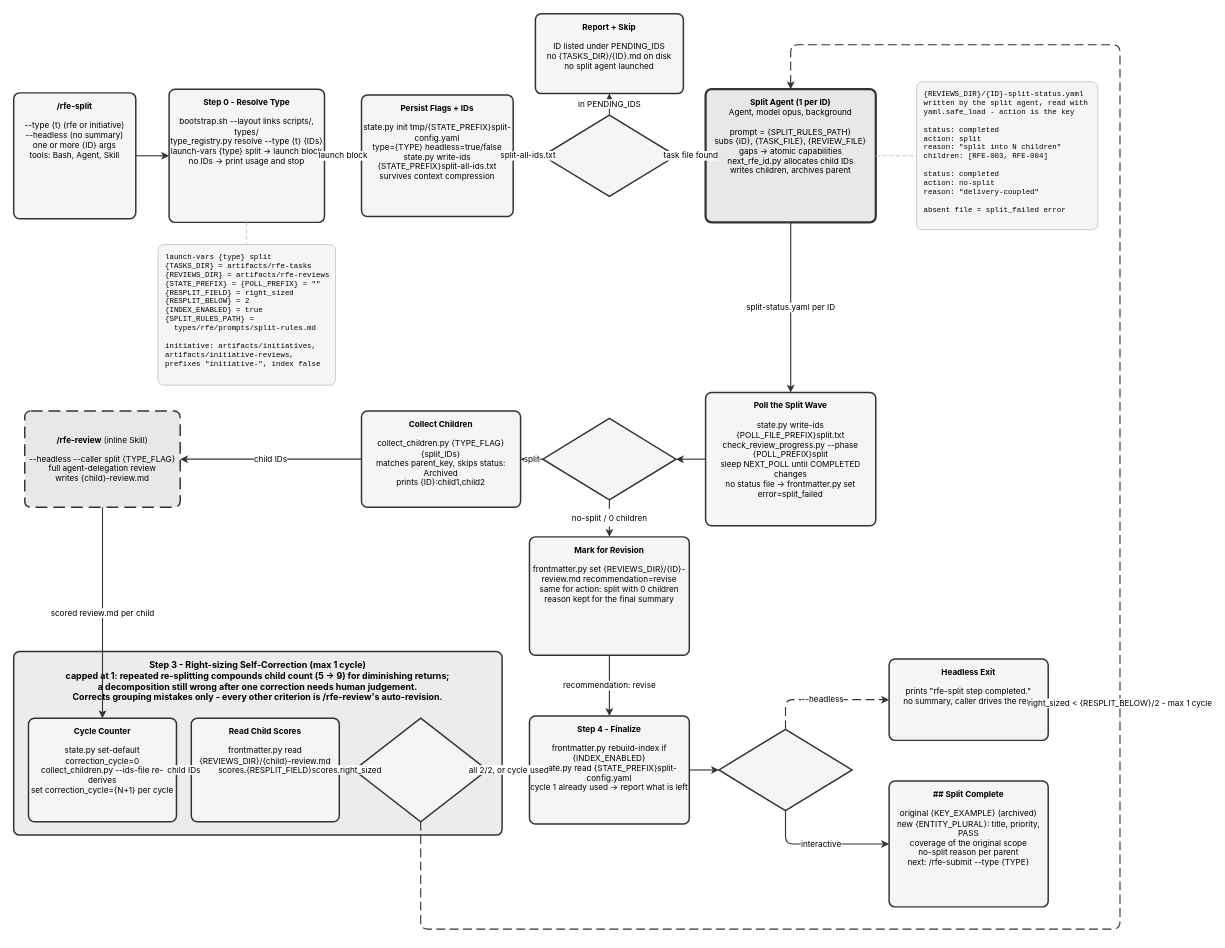
Image size: 1225x948. Some labels were removed from this diagram. The shapes that lost their labels are listed below. From the top down, each one's centre as x and y in pixels, then its label:
At pixel 609 155: "task file exists? check_review_progress.py --phase {POLL_PREFIX}fetch".
At pixel 609 458: "action: {ID}-split-status.yaml".
At pixel 420 769: "right-sized? same rule as check_right_sized.py".
At pixel 785 769: "headless? split-config.yaml".
